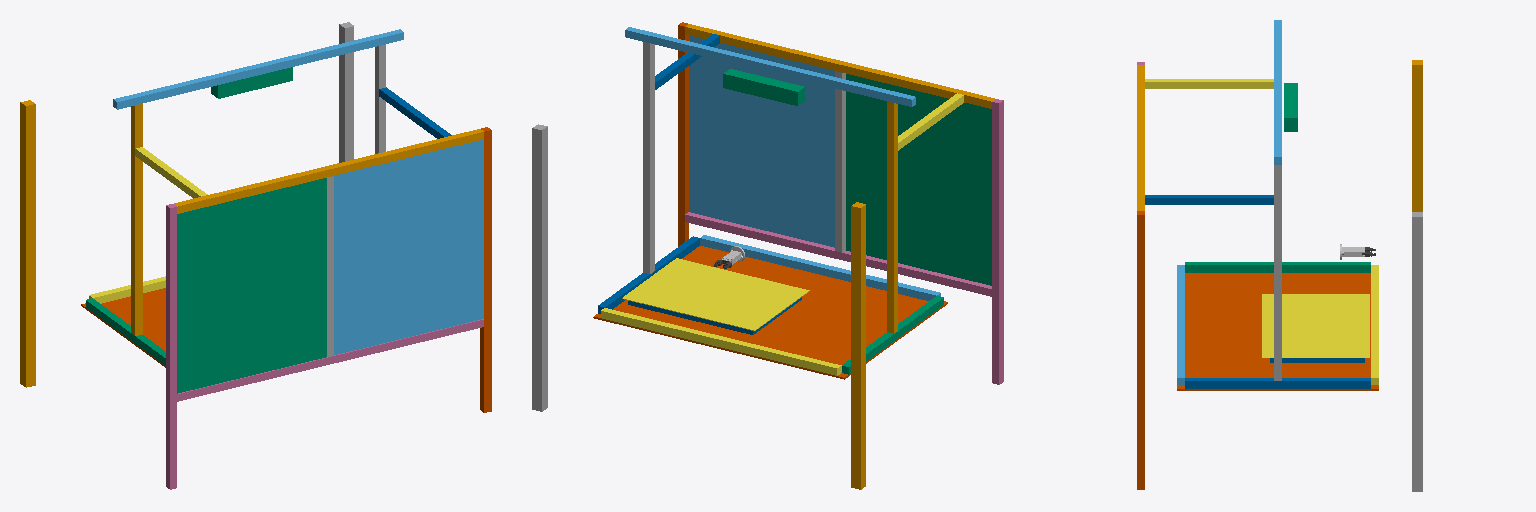
--- Facts derived from the render (not from the file) ---
The picture shows the robot from 3 angles, left to right: view 1: azimuth 30°, elevation 25°; view 2: azimuth 150°, elevation 25°; view 3: azimuth 270°, elevation 25°; orthographic projection.
Model kr3_egp50 with 45 links and 44 joints (6 revolute, 2 prismatic, 36 fixed), rooted at world, posed every joint at zero.
Links seen in each view (by area): view 1: obstacle_19, obstacle_18, obstacle_9, obstacle_17, obstacle_2, obstacle_7, obstacle_1, obstacle_6, obstacle_15, obstacle_8, obstacle_14, obstacle_16 (+6 smaller); view 2: obstacle_18, obstacle_19, obstacle_14, obstacle_4, obstacle_8, obstacle_9, obstacle_7, obstacle_17, obstacle_2, obstacle_15, obstacle_12, obstacle_0 (+10 smaller); view 3: obstacle_14, obstacle_4, obstacle_8, obstacle_6, obstacle_13, obstacle_11, obstacle_0, obstacle_9, obstacle_20, obstacle_21, obstacle_17, obstacle_2 (+3 smaller).
Boxes of the visible links, x1,y1,x2,y2 form: obstacle_19: (177, 178, 326, 393); obstacle_18: (334, 139, 483, 354); obstacle_9: (20, 100, 35, 387); obstacle_17: (174, 129, 483, 213); obstacle_2: (113, 29, 403, 109); obstacle_7: (166, 204, 176, 489); obstacle_1: (131, 104, 142, 335); obstacle_6: (480, 127, 491, 412); obstacle_15: (177, 319, 483, 401); obstacle_8: (339, 22, 353, 162); obstacle_14: (81, 288, 165, 367); obstacle_16: (327, 176, 333, 357); obstacle_18: (689, 35, 834, 247); obstacle_19: (846, 74, 991, 285); obstacle_14: (593, 246, 947, 379); obstacle_4: (622, 258, 809, 330); obstacle_8: (532, 124, 547, 411); obstacle_9: (851, 202, 865, 489); obstacle_7: (992, 99, 1003, 384); obstacle_17: (685, 24, 994, 108); obstacle_2: (625, 27, 915, 106); obstacle_15: (685, 212, 991, 296); obstacle_12: (601, 308, 841, 375); obstacle_0: (643, 42, 654, 273); obstacle_14: (1177, 273, 1378, 390); obstacle_4: (1262, 294, 1369, 357); obstacle_8: (1412, 212, 1422, 491); obstacle_6: (1137, 211, 1144, 489); obstacle_13: (1185, 378, 1370, 388); obstacle_11: (1185, 262, 1370, 272); obstacle_0: (1274, 165, 1281, 380); obstacle_9: (1412, 60, 1422, 211); obstacle_20: (1145, 79, 1273, 88); obstacle_21: (1145, 195, 1273, 204); obstacle_17: (1137, 65, 1144, 210); obstacle_2: (1274, 20, 1281, 164).
Size in the robot's own frame: 1.83 by 1.41 by 1.77 metres.
9 mesh visuals loaded from 16 distinct referenced files (9 binary STL); not drawn: 7 (reference not matched to a file when rendering).

URDF robot description (kr3_egp50):
<?xml version="1.0" ?>
<!-- =================================================================================== -->
<!-- |    This document was autogenerated by xacro from industrial_cell.xacro          | -->
<!-- |    EDITING THIS FILE BY HAND IS NOT RECOMMENDED                                 | -->
<!-- =================================================================================== -->
<robot name="kr3_egp50">
  <!-- colours based on RAL values given in "FAQ - Colours of robot and robot
       controller", version "KUKA.Tifs | 2010-01-21 |YM| DefaultColorsRobotAndController.doc",
       downloaded 2015-07-18 from
       http://www.kuka.be/main/cservice/faqs/hardware/DefaultColorsRobotAndController.pdf

       all RAL colours converted using http://www.visual-graphics.de/en/customer-care/ral-colours
  -->
  <link name="base_link">
    <visual>
      <origin rpy="0 0 0" xyz="0 0 0"/>
      <geometry>
        <mesh filename="package://acroba_resources/meshes/kr3r540/visual/base_link.stl"/>
      </geometry>
      <material name="">
        <color rgba="0.5058823529411764 0.47058823529411764 0.38823529411764707 1.0"/>
      </material>
    </visual>
    <collision>
      <origin rpy="0 0 0" xyz="0 0 0"/>
      <geometry>
        <mesh filename="package://acroba_resources/meshes/kr3r540/collision/base_link.stl"/>
      </geometry>
    </collision>
  </link>
  <link name="link_1">
    <visual>
      <origin rpy="0 0 0" xyz="0 0 0"/>
      <geometry>
        <mesh filename="package://acroba_resources/meshes/kr3r540/visual/link_1.stl"/>
      </geometry>
      <material name="">
        <color rgba="0.9450980392156862 0.9254901960784314 1.0 1.0"/>
      </material>
    </visual>
    <collision>
      <origin rpy="0 0 0" xyz="0 0 0"/>
      <geometry>
        <mesh filename="package://acroba_resources/meshes/kr3r540/collision/link_1.stl"/>
      </geometry>
    </collision>
  </link>
  <link name="link_2">
    <visual>
      <origin rpy="0 0 0" xyz="0 0 0"/>
      <geometry>
        <mesh filename="package://acroba_resources/meshes/kr3r540/visual/link_2.stl"/>
      </geometry>
      <material name="">
        <color rgba="0.9450980392156862 0.9254901960784314 1.0 1.0"/>
      </material>
    </visual>
    <collision>
      <origin rpy="0 0 0" xyz="0 0 0"/>
      <geometry>
        <mesh filename="package://acroba_resources/meshes/kr3r540/collision/link_2.stl"/>
      </geometry>
    </collision>
  </link>
  <link name="link_3">
    <visual>
      <origin rpy="0 0 0" xyz="0 0 0"/>
      <geometry>
        <mesh filename="package://acroba_resources/meshes/kr3r540/visual/link_3.stl"/>
      </geometry>
      <material name="">
        <color rgba="0.9450980392156862 0.9254901960784314 1.0 1.0"/>
      </material>
    </visual>
    <collision>
      <origin rpy="0 0 0" xyz="0 0 0"/>
      <geometry>
        <mesh filename="package://acroba_resources/meshes/kr3r540/collision/link_3.stl"/>
      </geometry>
    </collision>
  </link>
  <link name="link_4">
    <visual>
      <origin rpy="0 0 0" xyz="0 0 0"/>
      <geometry>
        <mesh filename="package://acroba_resources/meshes/kr3r540/visual/link_4.stl"/>
      </geometry>
      <material name="">
        <color rgba="0.9450980392156862 0.9254901960784314 1.0 1.0"/>
      </material>
    </visual>
    <collision>
      <origin rpy="0 0 0" xyz="0 0 0"/>
      <geometry>
        <mesh filename="package://acroba_resources/meshes/kr3r540/collision/link_4.stl"/>
      </geometry>
    </collision>
  </link>
  <link name="link_5">
    <visual>
      <origin rpy="0 0 0" xyz="0 0 0"/>
      <geometry>
        <mesh filename="package://acroba_resources/meshes/kr3r540/visual/link_5.stl"/>
      </geometry>
      <material name="">
        <color rgba="0.9450980392156862 0.9254901960784314 1.0 1.0"/>
      </material>
    </visual>
    <collision>
      <origin rpy="0 0 0" xyz="0 0 0"/>
      <geometry>
        <mesh filename="package://acroba_resources/meshes/kr3r540/collision/link_5.stl"/>
      </geometry>
    </collision>
  </link>
  <link name="link_6">
    <visual>
      <origin rpy="0 0 0" xyz="0 0 0"/>
      <geometry>
        <mesh filename="package://acroba_resources/meshes/kr3r540/visual/link_6.stl"/>
      </geometry>
      <material name="">
        <color rgba="0.5058823529411764 0.47058823529411764 0.38823529411764707 1.0"/>
      </material>
    </visual>
    <collision>
      <origin rpy="0 0 0" xyz="0 0 0"/>
      <geometry>
        <mesh filename="package://acroba_resources/meshes/kr3r540/collision/link_6.stl"/>
      </geometry>
    </collision>
  </link>
  <!-- Following REP199, this frame shall be use to attach EEF or other equipment -->
  <link name="flange"/>
  <joint name="joint_a1" type="revolute">
    <origin rpy="0 0 0" xyz="0 0 0.345"/>
    <parent link="base_link"/>
    <child link="link_1"/>
    <axis xyz="0 0 -1"/>
    <limit effort="0" lower="-2.9670597283903604" upper="2.9670597283903604" velocity="9.250245035569947"/>
  </joint>
  <joint name="joint_a2" type="revolute">
    <origin rpy="0 0 0" xyz="0.020 0 0"/>
    <parent link="link_1"/>
    <child link="link_2"/>
    <axis xyz="0 1 0"/>
    <limit effort="0" lower="-2.9670597283903604" upper="0.8726646259971648" velocity="9.232791743050003"/>
  </joint>
  <joint name="joint_a3" type="revolute">
    <origin rpy="0 0 0" xyz="0.260 0 0"/>
    <parent link="link_2"/>
    <child link="link_3"/>
    <axis xyz="0 1 0"/>
    <limit effort="0" lower="-1.9198621771937625" upper="2.705260340591211" velocity="9.389871375729493"/>
  </joint>
  <joint name="joint_a4" type="revolute">
    <origin rpy="0 0 0" xyz="0 0 0.020"/>
    <parent link="link_3"/>
    <child link="link_4"/>
    <axis xyz="-1 0 0"/>
    <limit effort="0" lower="-3.0543261909900767" upper="3.0543261909900767" velocity="10.471975511965978"/>
  </joint>
  <joint name="joint_a5" type="revolute">
    <origin rpy="0 0 0" xyz="0.260 0 0"/>
    <parent link="link_4"/>
    <child link="link_5"/>
    <axis xyz="0 1 0"/>
    <limit effort="0" lower="-2.0943951023931953" upper="2.0943951023931953" velocity="10.471975511965978"/>
  </joint>
  <joint name="joint_a6" type="revolute">
    <origin rpy="0 0 0" xyz="0.075 0 0"/>
    <parent link="link_5"/>
    <child link="link_6"/>
    <axis xyz="-1 0 0"/>
    <limit effort="0" lower="-6.1086523819801535" upper="6.1086523819801535" velocity="13.962634015954636"/>
  </joint>
  <joint name="joint_a6-tool0" type="fixed">
    <parent link="link_6"/>
    <child link="flange"/>
    <origin rpy="0 0 0" xyz="0 0 0"/>
  </joint>
  <!-- ROS base_link to KUKA $ROBROOT coordinate system transform -->
  <link name="base"/>
  <joint name="base_link-base" type="fixed">
    <origin rpy="0 0 0" xyz="0 0 0"/>
    <parent link="base_link"/>
    <child link="base"/>
  </joint>
  <!-- This frame corresponds to the $TOOL coordinate system in KUKA KRC controllers -->
  <link name="tool0"/>
  <joint name="flange-tool0" type="fixed">
    <parent link="flange"/>
    <child link="tool0"/>
    <origin rpy="0 1.5707963267948966 0" xyz="0 0 0"/>
  </joint>
  <material name="schunk_dark_grey">
    <color rgba="0.3 0.3 0.3 1.0"/>
  </material>
  <material name="schunk_grey">
    <color rgba="0.8 0.8 0.8 1.0"/>
  </material>
  <link name="base_tool"/>
  <link name="tool_plate">
    <visual>
      <origin rpy="0 0 0" xyz="0 0 0.0"/>
      <geometry>
        <mesh filename="package://acroba_resources/meshes/schunk_EGP50/visual/schunk_plate.stl"/>
      </geometry>
      <material name="schunk_grey"/>
    </visual>
    <collision>
      <origin rpy="0 0 0" xyz="0 0 -0.0145"/>
      <geometry>
        <cylinder length="0.013" radius="0.04"/>
      </geometry>
    </collision>
  </link>
  <link name="tool_adaptor">
    <visual>
      <origin rpy="0 0 0" xyz="0 0 0.0"/>
      <geometry>
        <mesh filename="package://acroba_resources/meshes/schunk_EGP50/visual/schunk_adaptor.stl"/>
      </geometry>
      <material name="schunk_grey"/>
    </visual>
    <collision>
      <origin rpy="0 0 0" xyz="0 0 -0.004"/>
      <geometry>
        <box size="0.03 0.07 0.008"/>
      </geometry>
    </collision>
  </link>
  <link name="tool_body">
    <visual>
      <origin rpy="0 0 0" xyz="0 0 0.0"/>
      <geometry>
        <mesh filename="package://acroba_resources/meshes/schunk_EGP50/visual/schunk_body_scaled.stl"/>
      </geometry>
      <material name="schunk_grey"/>
    </visual>
    <collision>
      <origin rpy="0 0 0" xyz="0 0 0.0522"/>
      <geometry>
        <box size="0.03 0.0508 0.104"/>
      </geometry>
    </collision>
  </link>
  <link name="_left_base_finger">
    <visual>
      <origin rpy="0 0 0" xyz="0 0 0.0"/>
      <geometry>
        <mesh filename="package://acroba_resources/meshes/schunk_EGP50/visual/schunk_left_finger_base_scaled.stl"/>
      </geometry>
      <material name="schunk_dark_grey"/>
    </visual>
    <collision>
      <origin rpy="0 0 0" xyz="0.0 -0.021 0.11"/>
      <geometry>
        <box size="0.0195 0.008 0.014"/>
      </geometry>
    </collision>
  </link>
  <link name="_right_base_finger">
    <visual>
      <origin rpy="0 0 0" xyz="0 0 0.0"/>
      <geometry>
        <mesh filename="package://acroba_resources/meshes/schunk_EGP50/visual/schunk_right_finger_base_scaled.stl"/>
      </geometry>
      <material name="schunk_dark_grey"/>
    </visual>
    <collision>
      <origin rpy="0 0 0" xyz="0.0 0.021 0.11"/>
      <geometry>
        <box size="0.0195 0.008 0.014"/>
      </geometry>
    </collision>
  </link>
  <link name="_left_adaptor_finger">
    <visual>
      <origin rpy="0 0 0" xyz="0 0 0.0"/>
      <geometry>
        <mesh filename="package://acroba_resources/meshes/schunk_EGP50/visual/schunk_left_adaptor_scaled.stl"/>
      </geometry>
      <material name="schunk_dark_grey"/>
    </visual>
    <collision>
      <origin rpy="0 0 0" xyz="0.0 -0.0264 0.1231"/>
      <geometry>
        <box size="0.017 0.026 0.036"/>
      </geometry>
    </collision>
  </link>
  <link name="_right_adaptor_finger">
    <visual>
      <origin rpy="0 0 0" xyz="0 0 0.0"/>
      <geometry>
        <mesh filename="package://acroba_resources/meshes/schunk_EGP50/visual/schunk_right_adaptor_scaled.stl"/>
      </geometry>
      <material name="schunk_dark_grey"/>
    </visual>
    <collision>
      <origin rpy="0 0 0" xyz="0.0 0.0264 0.1231"/>
      <geometry>
        <box size="0.017 0.026 0.036"/>
      </geometry>
    </collision>
  </link>
  <link name="_left_visual_finger_tip">
    <visual>
      <origin rpy="0 0 0" xyz="0 0 0.0"/>
      <geometry>
        <mesh filename="package://acroba_resources/meshes/schunk_EGP50/visual/schunk_left_tip_visual.stl"/>
      </geometry>
      <material name="schunk_dark_grey"/>
    </visual>
    <collision>
      <origin rpy="0 0 0" xyz="0.0 -0.029 0.1505"/>
      <geometry>
        <box size="0.012 0.004 0.019"/>
      </geometry>
    </collision>
  </link>
  <link name="_right_visual_finger_tip">
    <visual>
      <origin rpy="0 0 0" xyz="0 0 0.0"/>
      <geometry>
        <mesh filename="package://acroba_resources/meshes/schunk_EGP50/visual/schunk_right_tip_visual.stl"/>
      </geometry>
      <material name="schunk_dark_grey"/>
    </visual>
    <collision>
      <origin rpy="0 0 0" xyz="0.0 0.029 0.1505"/>
      <geometry>
        <box size="0.012 0.004 0.019"/>
      </geometry>
    </collision>
  </link>
  <link name="_right_collision_finger_tip">
    <collision>
      <origin rpy="1.5707 0 0" xyz="0.0 0.0265 0.153"/>
      <geometry>
        <cylinder length="0.017" radius="0.005"/>
      </geometry>
    </collision>
  </link>
  <link name="_left_collision_finger_tip">
    <collision>
      <origin rpy="1.5707 0 0" xyz="0.0 -0.0266 0.153"/>
      <geometry>
        <cylinder length="0.017" radius="0.005"/>
      </geometry>
    </collision>
  </link>
  <joint name="_tool_base_plate" type="fixed">
    <origin rpy="0 0 0" xyz="0 0 0.018"/>
    <parent link="base_tool"/>
    <child link="tool_plate"/>
  </joint>
  <joint name="_tool_plate_adaptor" type="fixed">
    <origin rpy="0 0 0" xyz="0 0 0.0"/>
    <parent link="tool_plate"/>
    <child link="tool_adaptor"/>
  </joint>
  <joint name="_tool_adaptor_body" type="fixed">
    <origin rpy="0 0 0" xyz="0 0 0.0"/>
    <parent link="tool_adaptor"/>
    <child link="tool_body"/>
  </joint>
  <joint name="_left_finger_base_joint" type="prismatic">
    <origin rpy="0 0 0" xyz="0 0 0.0"/>
    <parent link="tool_body"/>
    <child link="_left_base_finger"/>
    <axis xyz="0 1 0"/>
    <limit effort="215" lower="0" upper="0.008" velocity="10"/>
  </joint>
  <joint name="_right_finger_base_joint" type="prismatic">
    <origin rpy="0 0 0" xyz="0 0 0.0"/>
    <parent link="tool_body"/>
    <child link="_right_base_finger"/>
    <axis xyz="0 -1 0"/>
    <limit effort="215" lower="0" upper="0.008" velocity="10"/>
  </joint>
  <joint name="_left_base_adaptor_joint" type="fixed">
    <origin rpy="0 0 0" xyz="0 0 0.0"/>
    <parent link="_left_base_finger"/>
    <child link="_left_adaptor_finger"/>
  </joint>
  <joint name="_right_base_adaptor_joint" type="fixed">
    <origin rpy="0 0 0" xyz="0 0 0.0"/>
    <parent link="_right_base_finger"/>
    <child link="_right_adaptor_finger"/>
  </joint>
  <joint name="_left_adaptor_vis_joint" type="fixed">
    <origin rpy="0 0 0" xyz="0 0 0.0"/>
    <parent link="_left_adaptor_finger"/>
    <child link="_left_visual_finger_tip"/>
  </joint>
  <joint name="_right_adaptor_vis_joint" type="fixed">
    <origin rpy="0 0 0" xyz="0 0 0.0"/>
    <parent link="_right_adaptor_finger"/>
    <child link="_right_visual_finger_tip"/>
  </joint>
  <joint name="_right_vis_col_joint" type="fixed">
    <origin rpy="0 0 0" xyz="0 0 0.0"/>
    <parent link="_right_visual_finger_tip"/>
    <child link="_right_collision_finger_tip"/>
  </joint>
  <joint name="_left_vis_col_joint" type="fixed">
    <origin rpy="0 0 0" xyz="0 0 0.0"/>
    <parent link="_left_visual_finger_tip"/>
    <child link="_left_collision_finger_tip"/>
  </joint>
  <link name="world"/>
  <joint name="world_joint" type="fixed">
    <parent link="world"/>
    <child link="base_link"/>
    <origin xyz= "0.718400001525879 0.150999993085861 0.84799998998642" rpy= "0 0 1.570796"/>
  </joint>

  
  <joint name="tool_joint" type="fixed">
    <parent link="tool0"/>
    <child link="base_tool"/>
    <origin rpy="0.0 0.0 3.141592" xyz="0.0 0.0 0.0"/>
  </joint>
  <!-- Disabling collision between tool and robot, maybe not necessary-->
  <disable_collision link1="link_6" link2="tool_body"/>

	<!-- Added obstacles-->
  <link name = "obstacle_0">
		<visual>
			<origin xyz= "0 0 0" rpy= "0 0 0"/>
			<geometry>
				<box size="0.0400001 -0.03999999 1.23"/>
			</geometry>
		</visual>
		<collision>
			<origin xyz= "0 0 0" rpy= "0 0 0"/>
			<geometry>
				<box size="0.0400001 -0.03999999 1.23"/>
			</geometry>
		</collision>
	</link>
	<joint name="obstacle_0_joint" type="fixed">
		<parent link="world"/>
		<child link="obstacle_0"/>
			<origin xyz= "1.394729 0.4583802 1.447862" rpy= "0 0 0"/>
	</joint>


	<link name = "obstacle_1">
		<visual>
			<origin xyz= "0 0 0" rpy= "0 0 0"/>
			<geometry>
				<box size="0.04000002 -0.03999999 1.23"/>
			</geometry>
		</visual>
		<collision>
			<origin xyz= "0 0 0" rpy= "0 0 0"/>
			<geometry>
				<box size="0.04000002 -0.03999999 1.23"/>
			</geometry>
		</collision>
	</link>
	<joint name="obstacle_1_joint" type="fixed">
		<parent link="world"/>
		<child link="obstacle_1"/>
			<origin xyz= "0.03472755 0.4583802 1.447862" rpy= "0 0 0"/>
	</joint>


	<link name = "obstacle_2">
		<visual>
			<origin xyz= "0 0 0" rpy= "0 0 0"/>
			<geometry>
				<box size="1.600001 -0.03999999 0.03999998"/>
			</geometry>
		</visual>
		<collision>
			<origin xyz= "0 0 0" rpy= "0 0 0"/>
			<geometry>
				<box size="1.600001 -0.03999999 0.03999998"/>
			</geometry>
		</collision>
	</link>
	<joint name="obstacle_2_joint" type="fixed">
		<parent link="world"/>
		<child link="obstacle_2"/>
			<origin xyz= "0.7147281 0.4583802 2.082862" rpy= "0 0 0"/>
	</joint>


	<link name = "obstacle_3">
		<visual>
			<origin xyz= "0 0 0" rpy= "0 0 0"/>
			<geometry>
				<box size="0.415536 -0.0679 0.07653705"/>
			</geometry>
		</visual>
		<collision>
			<origin xyz= "0 0 0" rpy= "0 0 0"/>
			<geometry>
				<box size="0.415536 -0.0679 0.07653705"/>
			</geometry>
		</collision>
	</link>
	<joint name="obstacle_3_joint" type="fixed">
		<parent link="world"/>
		<child link="obstacle_3"/>
			<origin xyz= "0.7147226 0.5223302 2.00008" rpy= "0 0 0"/>
	</joint>


	<link name = "obstacle_4">
		<visual>
			<origin xyz= "0 0 0" rpy= "0 0 0"/>
			<geometry>
				<box size="0.7420009 -0.53 0.00400001"/>
			</geometry>
		</visual>
		<collision>
			<origin xyz= "0 0 0" rpy= "0 0 0"/>
			<geometry>
				<box size="0.7420009 -0.53 0.00400001"/>
			</geometry>
		</collision>
	</link>
	<joint name="obstacle_4_joint" type="fixed">
		<parent link="world"/>
		<child link="obstacle_4"/>
			<origin xyz= "0.9137282 0.6463802 0.8998618" rpy= "0 0 0"/>
	</joint>


	<link name = "obstacle_5">
		<visual>
			<origin xyz= "0 0 0" rpy= "0 0 0"/>
			<geometry>
				<box size="0.6990009 -0.468 0.03500004"/>
			</geometry>
		</visual>
		<collision>
			<origin xyz= "0 0 0" rpy= "0 0 0"/>
			<geometry>
				<box size="0.6990009 -0.468 0.03500004"/>
			</geometry>
		</collision>
	</link>
	<joint name="obstacle_5_joint" type="fixed">
		<parent link="world"/>
		<child link="obstacle_5"/>
			<origin xyz= "0.9142281 0.6553802 0.8803617" rpy= "0 0 0"/>
	</joint>


	<link name = "obstacle_6">
		<visual>
			<origin xyz= "0 0 0" rpy= "0 0 0"/>
			<geometry>
				<box size="0.03999998 -0.04000001 1.5"/>
			</geometry>
		</visual>
		<collision>
			<origin xyz= "0 0 0" rpy= "0 0 0"/>
			<geometry>
				<box size="0.03999998 -0.04000001 1.5"/>
			</geometry>
		</collision>
	</link>
	<joint name="obstacle_6_joint" type="fixed">
		<parent link="world"/>
		<child link="obstacle_6"/>
			<origin xyz= "1.590326 -0.2172176 1.082862" rpy= "0 0 0"/>
	</joint>


	<link name = "obstacle_7">
		<visual>
			<origin xyz= "0 0 0" rpy= "0 0 0"/>
			<geometry>
				<box size="0.04000003 -0.04000001 1.5"/>
			</geometry>
		</visual>
		<collision>
			<origin xyz= "0 0 0" rpy= "0 0 0"/>
			<geometry>
				<box size="0.04000003 -0.04000001 1.5"/>
			</geometry>
		</collision>
	</link>
	<joint name="obstacle_7_joint" type="fixed">
		<parent link="world"/>
		<child link="obstacle_7"/>
			<origin xyz= "-0.1608703 -0.2172176 1.082862" rpy= "0 0 0"/>
	</joint>


	<link name = "obstacle_8">
		<visual>
			<origin xyz= "0 0 0" rpy= "0 0 0"/>
			<geometry>
				<box size="0.053229 -0.05322897 1.5"/>
			</geometry>
		</visual>
		<collision>
			<origin xyz= "0 0 0" rpy= "0 0 0"/>
			<geometry>
				<box size="0.053229 -0.05322897 1.5"/>
			</geometry>
		</collision>
	</link>
	<joint name="obstacle_8_joint" type="fixed">
		<parent link="world"/>
		<child link="obstacle_8"/>
			<origin xyz= "1.603797 1.147414 1.082862" rpy= "0 0 0"/>
	</joint>


	<link name = "obstacle_9">
		<visual>
			<origin xyz= "0 0 0" rpy= "0 0 0"/>
			<geometry>
				<box size="0.05322922 -0.05322897 1.5"/>
			</geometry>
		</visual>
		<collision>
			<origin xyz= "0 0 0" rpy= "0 0 0"/>
			<geometry>
				<box size="0.05322922 -0.05322897 1.5"/>
			</geometry>
		</collision>
	</link>
	<joint name="obstacle_9_joint" type="fixed">
		<parent link="world"/>
		<child link="obstacle_9"/>
			<origin xyz= "-0.1743412 1.147414 1.082862" rpy= "0 0 0"/>
	</joint>


	<link name = "obstacle_10">
		<visual>
			<origin xyz= "0 0 0" rpy= "0 0 0"/>
			<geometry>
				<box size="1.320001 -0.04 0.04000004"/>
			</geometry>
		</visual>
		<collision>
			<origin xyz= "0 0 0" rpy= "0 0 0"/>
			<geometry>
				<box size="1.320001 -0.04 0.04000004"/>
			</geometry>
		</collision>
	</link>
	<joint name="obstacle_10_joint" type="fixed">
		<parent link="world"/>
		<child link="obstacle_10"/>
			<origin xyz= "0.7147281 -0.02161982 0.8128617" rpy= "0 0 0"/>
	</joint>


	<link name = "obstacle_11">
		<visual>
			<origin xyz= "0 0 0" rpy= "0 0 0"/>
			<geometry>
				<box size="0.04000002 -0.92 0.04000004"/>
			</geometry>
		</visual>
		<collision>
			<origin xyz= "0 0 0" rpy= "0 0 0"/>
			<geometry>
				<box size="0.04000002 -0.92 0.04000004"/>
			</geometry>
		</collision>
	</link>
	<joint name="obstacle_11_joint" type="fixed">
		<parent link="world"/>
		<child link="obstacle_11"/>
			<origin xyz= "0.03472755 0.4583802 0.8128617" rpy= "0 0 0"/>
	</joint>


	<link name = "obstacle_12">
		<visual>
			<origin xyz= "0 0 0" rpy= "0 0 0"/>
			<geometry>
				<box size="1.320001 -0.04000002 0.04000004"/>
			</geometry>
		</visual>
		<collision>
			<origin xyz= "0 0 0" rpy= "0 0 0"/>
			<geometry>
				<box size="1.320001 -0.04000002 0.04000004"/>
			</geometry>
		</collision>
	</link>
	<joint name="obstacle_12_joint" type="fixed">
		<parent link="world"/>
		<child link="obstacle_12"/>
			<origin xyz= "0.7147281 0.9383802 0.8128617" rpy= "0 0 0"/>
	</joint>


	<link name = "obstacle_13">
		<visual>
			<origin xyz= "0 0 0" rpy= "0 0 0"/>
			<geometry>
				<box size="0.0400001 -0.92 0.04000004"/>
			</geometry>
		</visual>
		<collision>
			<origin xyz= "0 0 0" rpy= "0 0 0"/>
			<geometry>
				<box size="0.0400001 -0.92 0.04000004"/>
			</geometry>
		</collision>
	</link>
	<joint name="obstacle_13_joint" type="fixed">
		<parent link="world"/>
		<child link="obstacle_13"/>
			<origin xyz= "1.394729 0.4583802 0.8128617" rpy= "0 0 0"/>
	</joint>


	<link name = "obstacle_14">
		<visual>
			<origin xyz= "0 0 0" rpy= "0 0 0"/>
			<geometry>
				<box size="1.400001 -1 0.009999995"/>
			</geometry>
		</visual>
		<collision>
			<origin xyz= "0 0 0" rpy= "0 0 0"/>
			<geometry>
				<box size="1.400001 -1 0.009999995"/>
			</geometry>
		</collision>
	</link>
	<joint name="obstacle_14_joint" type="fixed">
		<parent link="world"/>
		<child link="obstacle_14"/>
			<origin xyz= "0.7147282 0.4583802 0.7878616" rpy= "0 0 0"/>
	</joint>


	<link name = "obstacle_15">
		<visual>
			<origin xyz= "0 0 0" rpy= "0 0 0"/>
			<geometry>
				<box size="1.711231 -0.04000001 0.04000004"/>
			</geometry>
		</visual>
		<collision>
			<origin xyz= "0 0 0" rpy= "0 0 0"/>
			<geometry>
				<box size="1.711231 -0.04000001 0.04000004"/>
			</geometry>
		</collision>
	</link>
	<joint name="obstacle_15_joint" type="fixed">
		<parent link="world"/>
		<child link="obstacle_15"/>
			<origin xyz= "0.7147452 -0.2172176 0.8128617" rpy= "0 0 0"/>
	</joint>


	<link name = "obstacle_16">
		<visual>
			<origin xyz= "0 0 0" rpy= "0 0 0"/>
			<geometry>
				<box size="0.03999998 -0.04000001 0.9600002"/>
			</geometry>
		</visual>
		<collision>
			<origin xyz= "0 0 0" rpy= "0 0 0"/>
			<geometry>
				<box size="0.03999998 -0.04000001 0.9600002"/>
			</geometry>
		</collision>
	</link>
	<joint name="obstacle_16_joint" type="fixed">
		<parent link="world"/>
		<child link="obstacle_16"/>
			<origin xyz= "0.7147452 -0.2172176 1.312862" rpy= "0 0 0"/>
	</joint>


	<link name = "obstacle_17">
		<visual>
			<origin xyz= "0 0 0" rpy= "0 0 0"/>
			<geometry>
				<box size="1.711231 -0.04000001 0.03999998"/>
			</geometry>
		</visual>
		<collision>
			<origin xyz= "0 0 0" rpy= "0 0 0"/>
			<geometry>
				<box size="1.711231 -0.04000001 0.03999998"/>
			</geometry>
		</collision>
	</link>
	<joint name="obstacle_17_joint" type="fixed">
		<parent link="world"/>
		<child link="obstacle_17"/>
			<origin xyz= "0.7147452 -0.2172176 1.812862" rpy= "0 0 0"/>
	</joint>


	<link name = "obstacle_18">
		<visual>
			<origin xyz= "0 0 0" rpy= "0 0 0"/>
			<geometry>
				<box size="0.8336157 -0.003999993 0.9580002"/>
			</geometry>
		</visual>
		<collision>
			<origin xyz= "0 0 0" rpy= "0 0 0"/>
			<geometry>
				<box size="0.8336157 -0.003999993 0.9580002"/>
			</geometry>
		</collision>
	</link>
	<joint name="obstacle_18_joint" type="fixed">
		<parent link="world"/>
		<child link="obstacle_18"/>
			<origin xyz= "1.152553 -0.2309676 1.312862" rpy= "0 0 0"/>
	</joint>


	<link name = "obstacle_19">
		<visual>
			<origin xyz= "0 0 0" rpy= "0 0 0"/>
			<geometry>
				<box size="0.8336154 -0.003999993 0.9580002"/>
			</geometry>
		</visual>
		<collision>
			<origin xyz= "0 0 0" rpy= "0 0 0"/>
			<geometry>
				<box size="0.8336154 -0.003999993 0.9580002"/>
			</geometry>
		</collision>
	</link>
	<joint name="obstacle_19_joint" type="fixed">
		<parent link="world"/>
		<child link="obstacle_19"/>
			<origin xyz= "0.2769374 -0.2309676 1.312862" rpy= "0 0 0"/>
	</joint>


	<link name = "obstacle_20">
		<visual>
			<origin xyz= "0 0 0" rpy= "0 0 0"/>
			<geometry>
				<box size="0.04000001 -0.6356 0.03999998"/>
			</geometry>
		</visual>
		<collision>
			<origin xyz= "0 0 0" rpy= "0 0 0"/>
			<geometry>
				<box size="0.04000001 -0.6356 0.03999998"/>
			</geometry>
		</collision>
	</link>
	<joint name="obstacle_20_joint" type="fixed">
		<parent link="world"/>
		<child link="obstacle_20"/>
			<origin xyz= "0.03472979 0.1205824 1.812862" rpy= "0 0 0"/>
	</joint>


	<link name = "obstacle_21">
		<visual>
			<origin xyz= "0 0 0" rpy= "0 0 0"/>
			<geometry>
				<box size="0.03999998 -0.6356 0.03999998"/>
			</geometry>
		</visual>
		<collision>
			<origin xyz= "0 0 0" rpy= "0 0 0"/>
			<geometry>
				<box size="0.03999998 -0.6356 0.03999998"/>
			</geometry>
		</collision>
	</link>
	<joint name="obstacle_21_joint" type="fixed">
		<parent link="world"/>
		<child link="obstacle_21"/>
			<origin xyz= "1.394761 0.1205824 1.812862" rpy= "0 0 0"/>
	</joint>

</robot>
